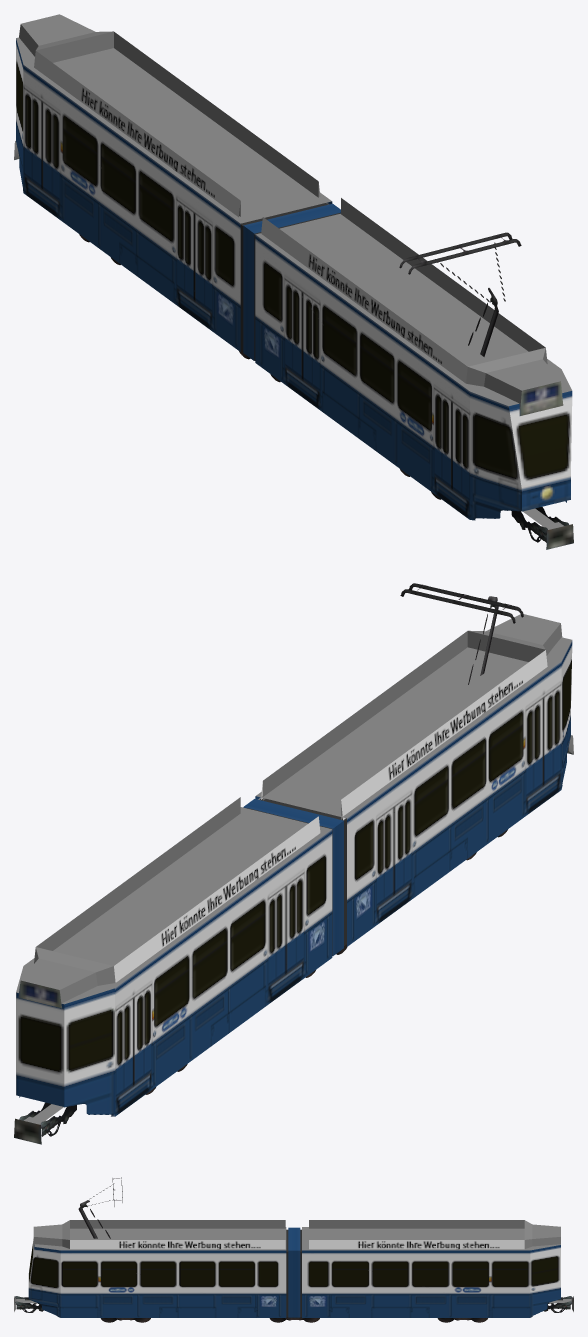
File: tram2000.obj
3 renders of one model, top to bottom at view 1: azimuth 30°, elevation 25°; view 2: azimuth 150°, elevation 25°; view 3: azimuth 270°, elevation 25°, orthographic. The views are drawn at different scales.
Parts seen in each view (by area): view 1: tram2000; view 2: tram2000; view 3: tram2000.
Part boxes in pixels (<box>): tram2000: <box>14,14,573,549</box>; tram2000: <box>14,583,573,1144</box>; tram2000: <box>14,1177,573,1322</box>.
Size of the model in its own units: 0.1357 by 0.2473 by 1.01.
